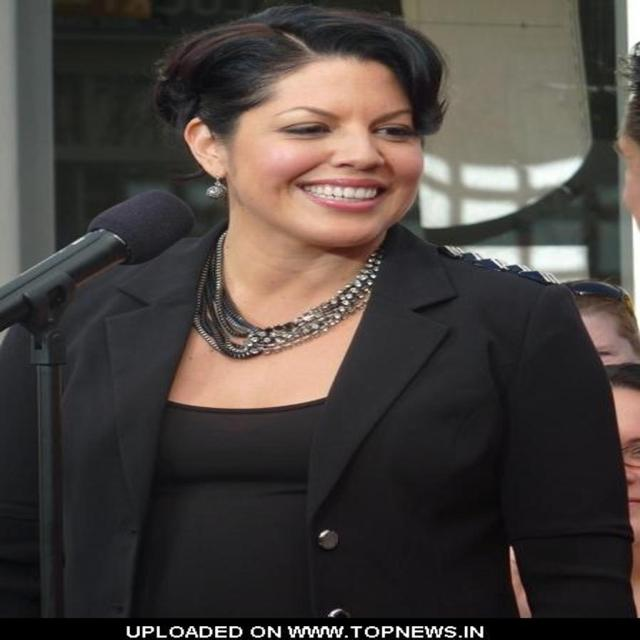Face: (241, 75, 442, 249)
